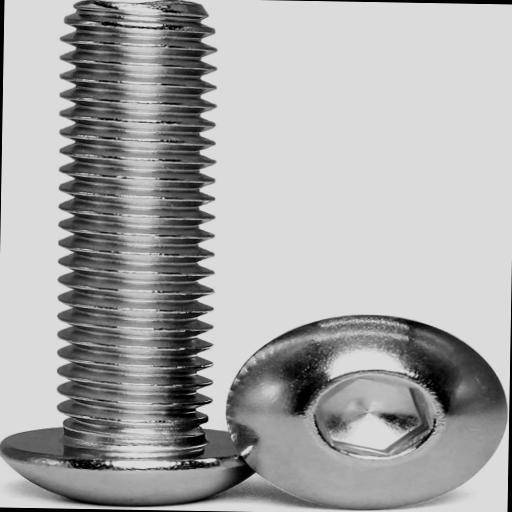Hex-Allen: (220, 312, 509, 508)
